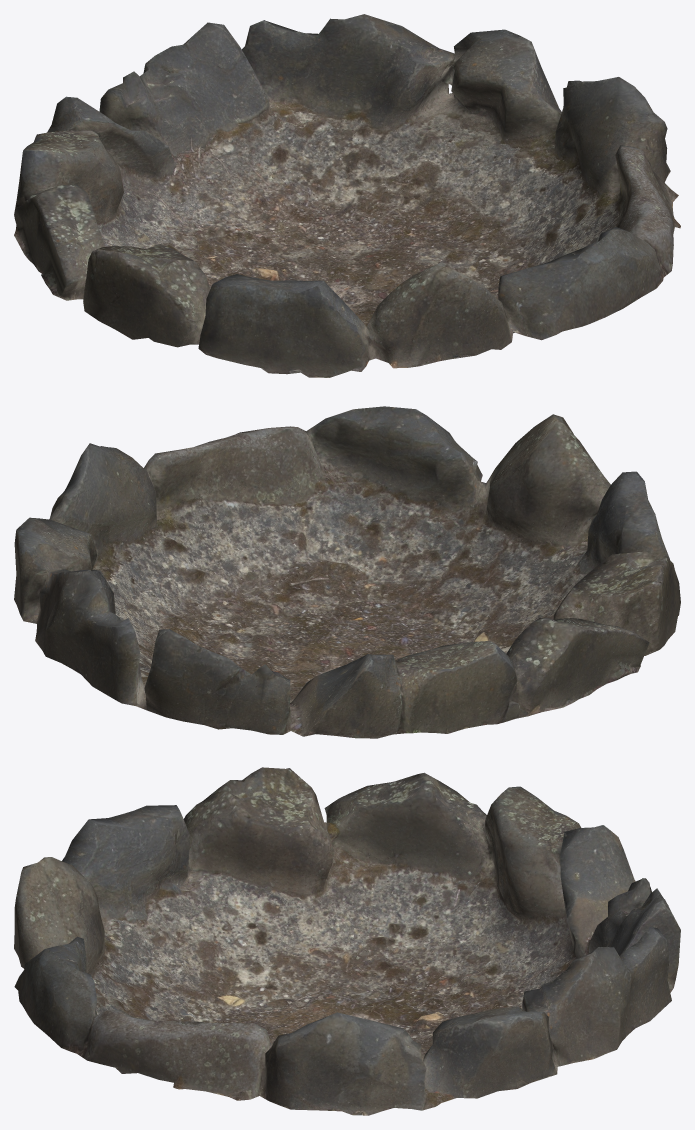
File: stone_fire_pit.glb
3 views of the same model, one above another, from view 1: azimuth 30°, elevation 25°; view 2: azimuth 150°, elevation 25°; view 3: azimuth 270°, elevation 25° (orthographic).
Visible parts, largest first — view 1: stone_fire_pit; view 2: stone_fire_pit; view 3: stone_fire_pit.
Part boxes in pixels (bbox=[...]): stone_fire_pit: bbox=[14, 14, 680, 377]; stone_fire_pit: bbox=[14, 406, 680, 738]; stone_fire_pit: bbox=[14, 767, 680, 1115].
Bounding box in the file's own units: 1.45 × 0.3883 × 1.43.
Materials: 1 (1 with a texture image).
